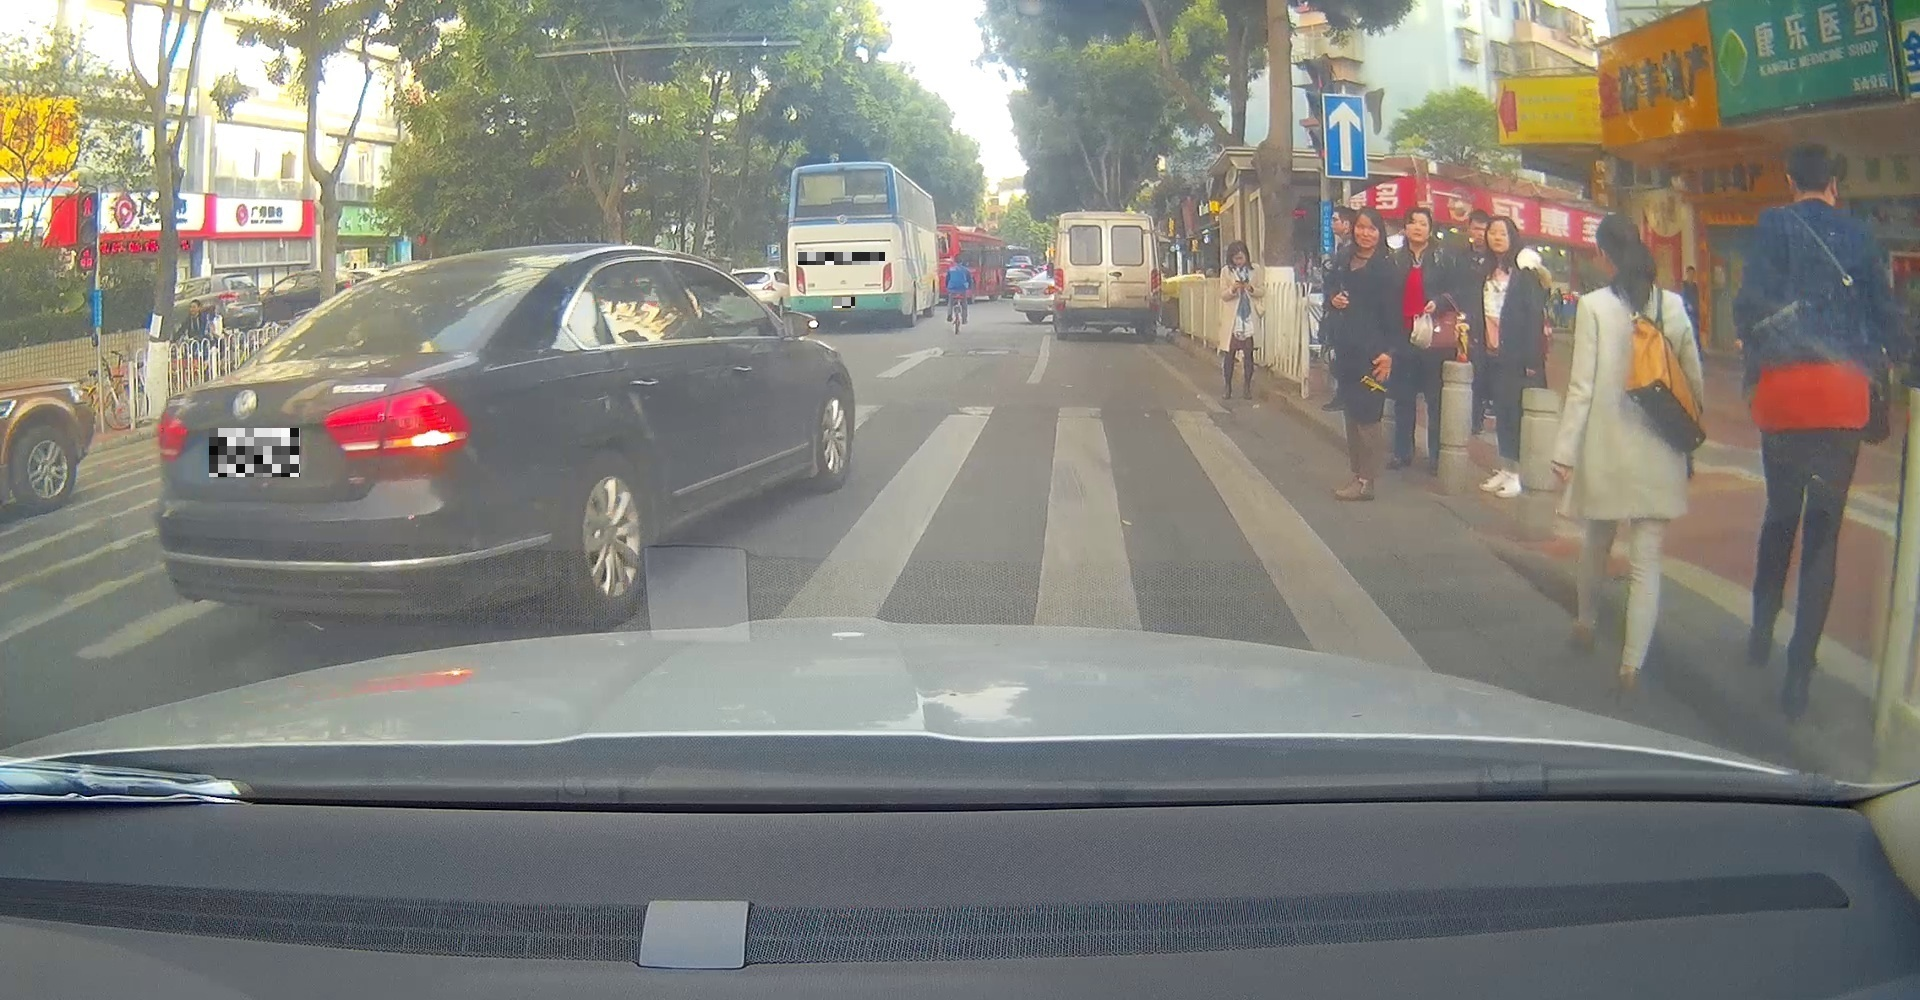L_light: (154, 409, 188, 462), (1054, 268, 1065, 311), (796, 265, 806, 294), (883, 261, 891, 292)
R_light: (323, 385, 472, 459), (1149, 268, 1161, 311)
T_light: (391, 275, 438, 282), (830, 197, 855, 203), (1098, 308, 1116, 311)
day-no: (787, 161, 904, 327), (1053, 211, 1162, 343)
day-right: (151, 249, 555, 632)
plate_1: (210, 428, 300, 477)
plate_2: (797, 253, 885, 265)
plate_3: (833, 297, 855, 308)
